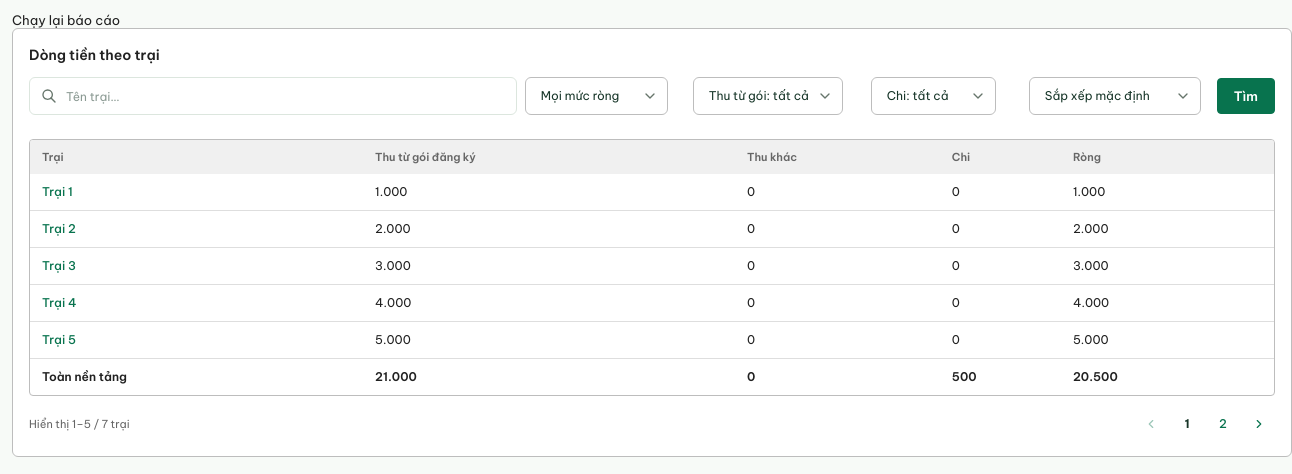
ScopeTable filter and pagination › filters by farm name (accent-insensitive) only after pressing Tìm, and by net
The width and height of the screenshot is (1292, 474).
Type "dong xanh" into the search field named "Tìm trại" at (273, 96), box left=29, top=77, right=517, bottom=115
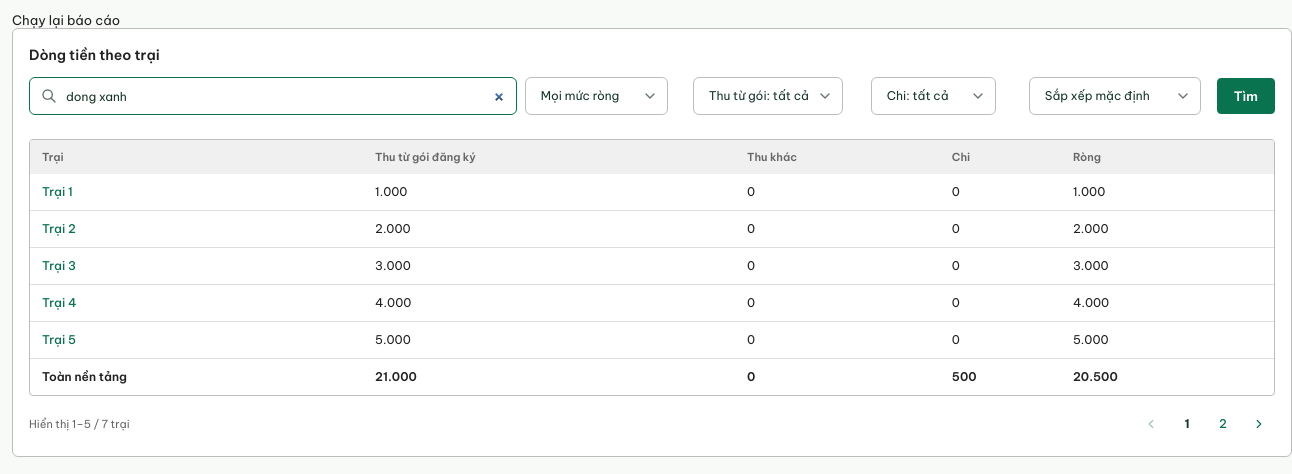
Expected: the button "Trại 1" is shown, left=42, top=184, right=73, bottom=200
Click the button "Tìm" at (1246, 96), box left=1217, top=78, right=1275, bottom=114
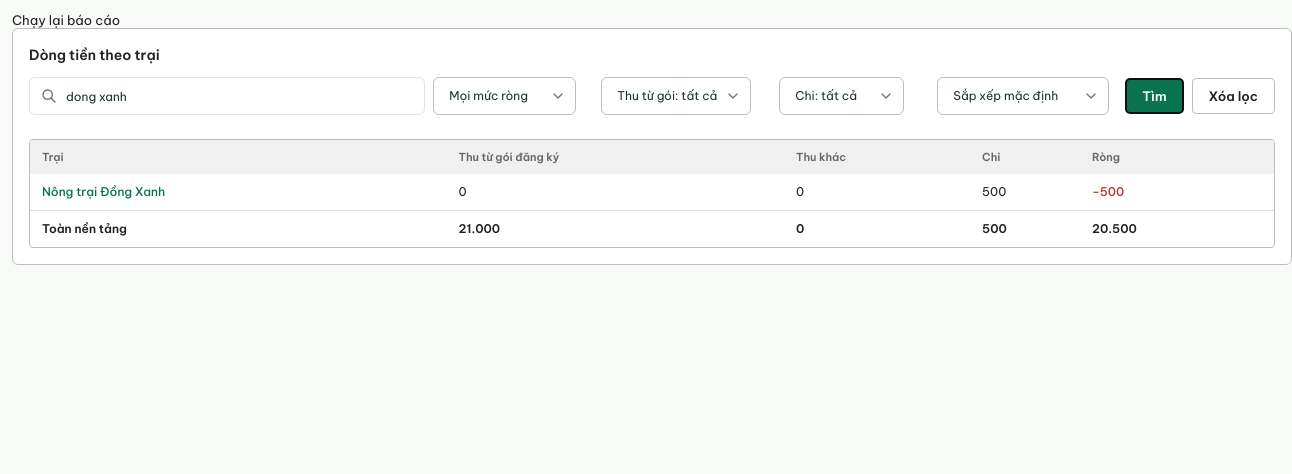
Now the button "Trại 1" is gone
Now the button "Nông trại Đồng Xanh" is shown, box left=42, top=184, right=165, bottom=200
Click the button "Xóa lọc" at (1233, 96), box left=1192, top=78, right=1275, bottom=114
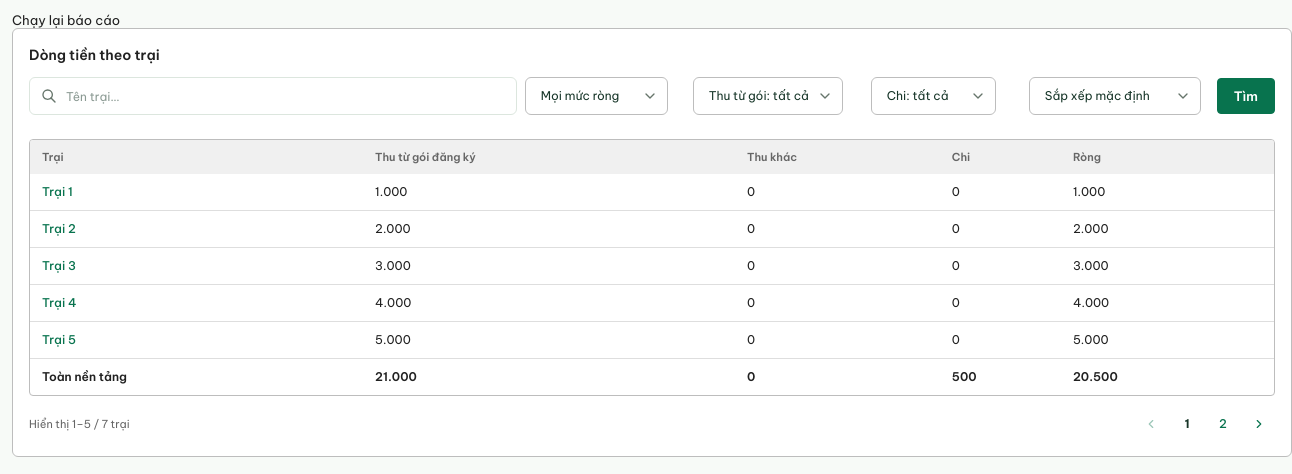
Select "Ròng âm" in the dropdown named "Dòng tiền ròng" at (596, 96), box left=525, top=77, right=668, bottom=115
Click the button "Tìm" at (1246, 96), box left=1217, top=78, right=1275, bottom=114
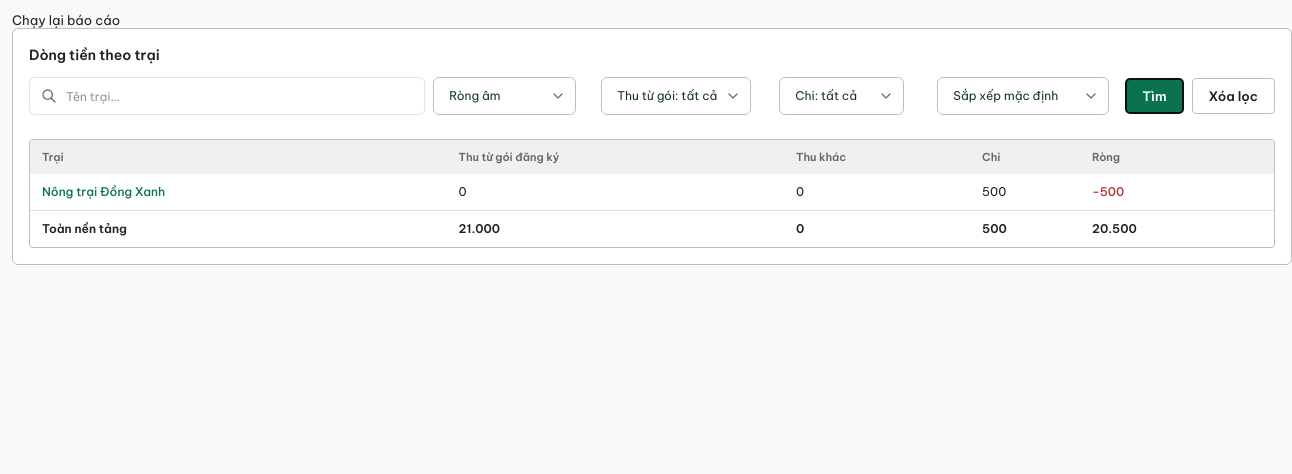
Expected: the number of rows is 3, left=30, top=140, right=1274, bottom=174; left=30, top=174, right=1274, bottom=210; left=30, top=210, right=1274, bottom=247
Type "zzz" into the search field named "Tìm trại" at (227, 96), box left=29, top=77, right=425, bottom=115
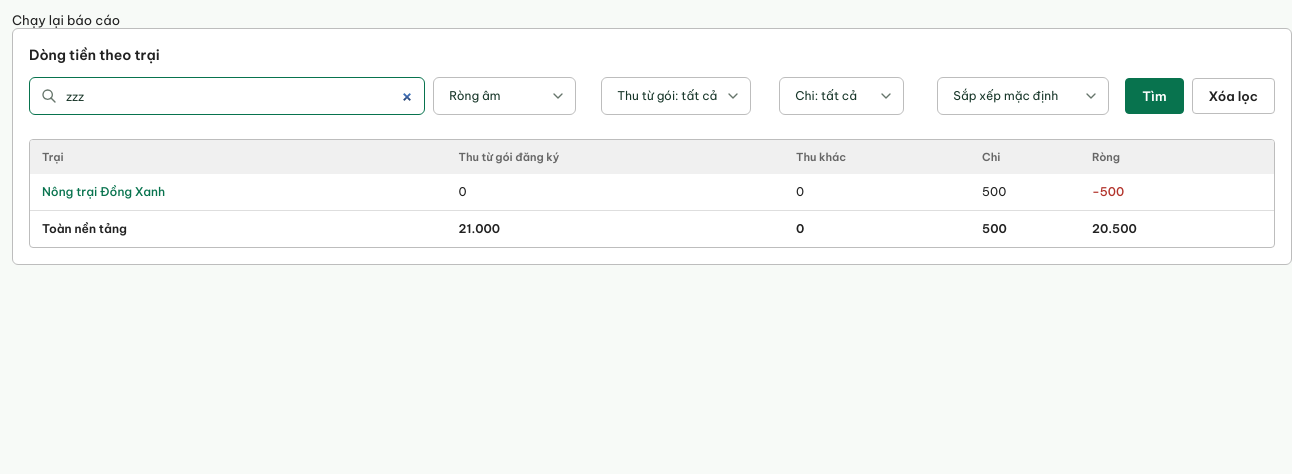
Click the button "Tìm" at (1154, 96), box left=1125, top=78, right=1184, bottom=114
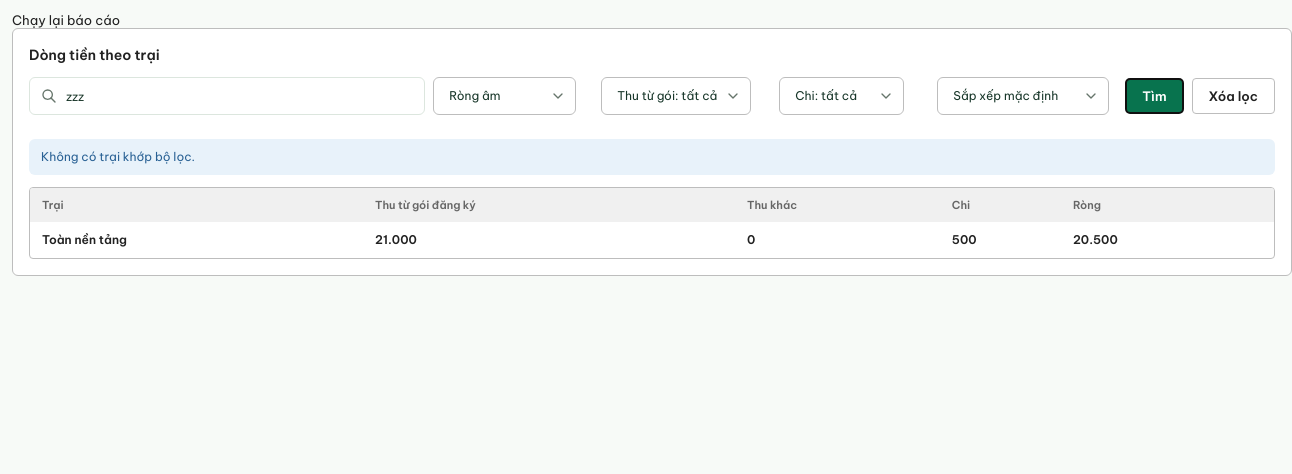
Now the text "Không có trại khớp bộ lọc." is shown, box left=29, top=139, right=1275, bottom=175
